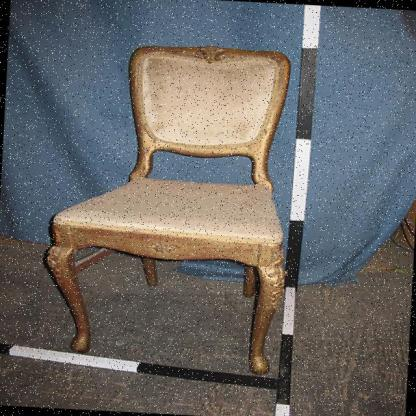Chair: (27, 24, 316, 394)
